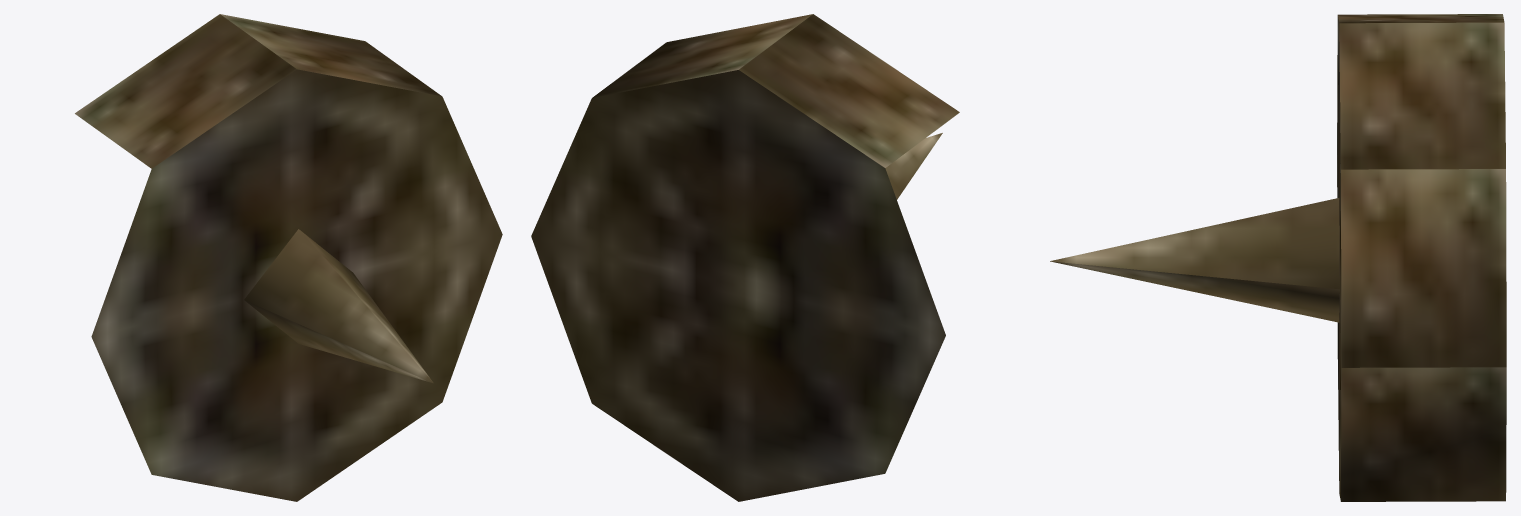
3 views of the same model, side by side, from view 1: azimuth 30°, elevation 25°; view 2: azimuth 150°, elevation 25°; view 3: azimuth 270°, elevation 25° (orthographic). The views are drawn at different scales.
Visible parts, largest first — view 1: model_Object48; view 2: model_Object48; view 3: model_Object48.
Boxes of the visible parts, x1,y1,x2,y2 form: model_Object48: [75, 14, 502, 501]; model_Object48: [531, 14, 959, 501]; model_Object48: [1050, 14, 1506, 501].
Bounding box in the file's own units: 1.12 × 1.12 × 0.9862.
1 material, 1 textured.
